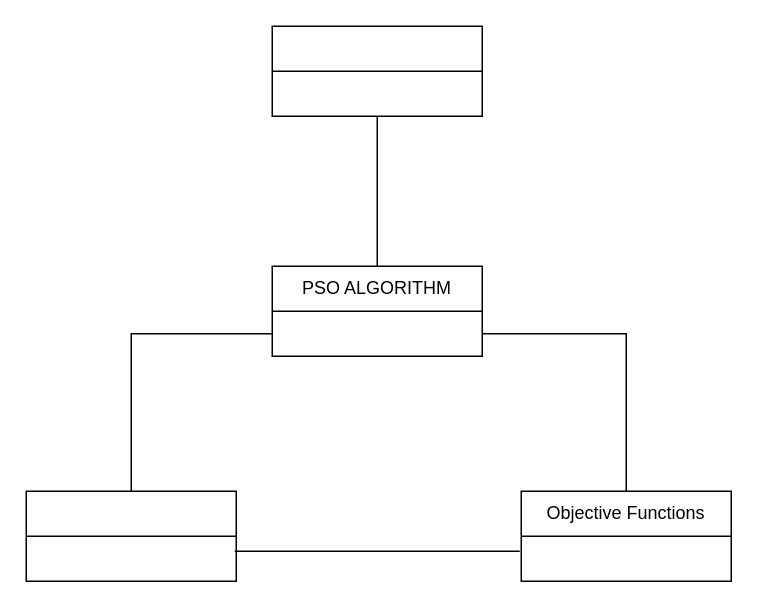
The diagram is 758 pixels wide and 608 high, and some of its shapes have lost their labels. The box of each missing label's shape, as (x1, y1, x2, y2) in pixels:
Particle Management: (25, 490, 236, 581)
PSO MAIN: (271, 25, 482, 116)
